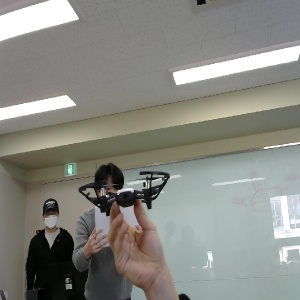Drone: (71, 157, 172, 224)
